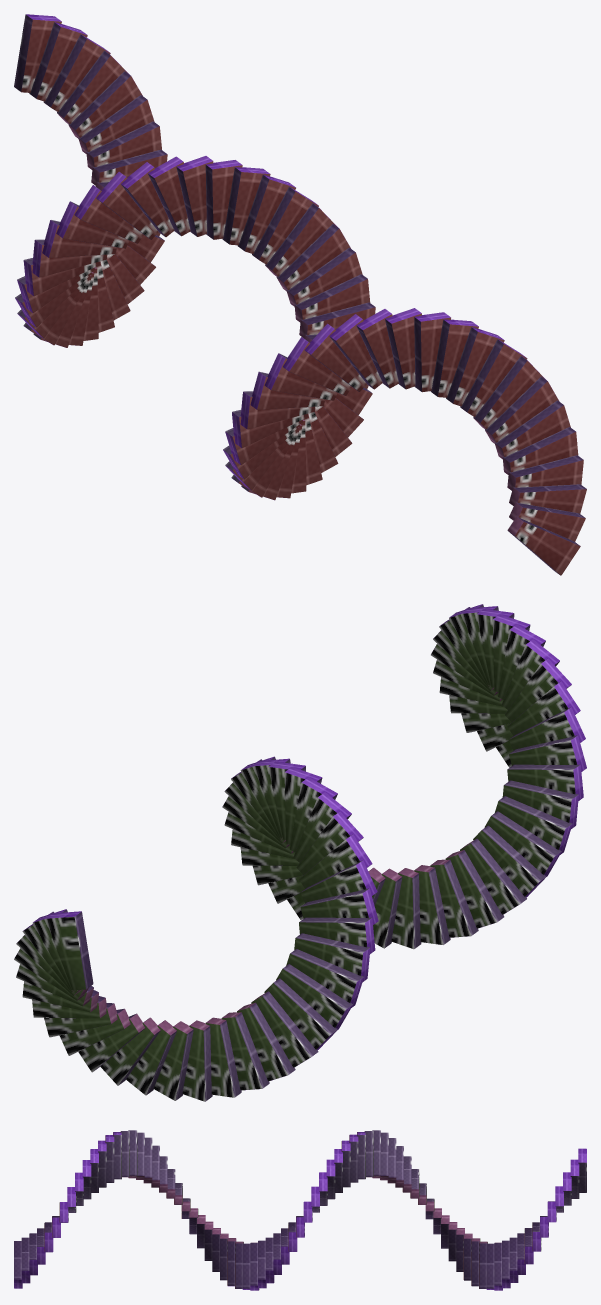
The model's file is Stairs_to_hell_00.fbx.
3 views of the same model, one above another, from view 1: azimuth 30°, elevation 25°; view 2: azimuth 150°, elevation 25°; view 3: azimuth 270°, elevation 25° (orthographic). The views are drawn at different scales.
Parts seen in each view (by area): view 1: Stairs_hell_00; view 2: Stairs_hell_00; view 3: Stairs_hell_00.
Part boxes in pixels (bbox=[...]): Stairs_hell_00: bbox=[14, 14, 586, 575]; Stairs_hell_00: bbox=[14, 604, 586, 1101]; Stairs_hell_00: bbox=[14, 1130, 586, 1290].
Bounding box in the file's own units: 5.58 × 5.58 × 19.96.
